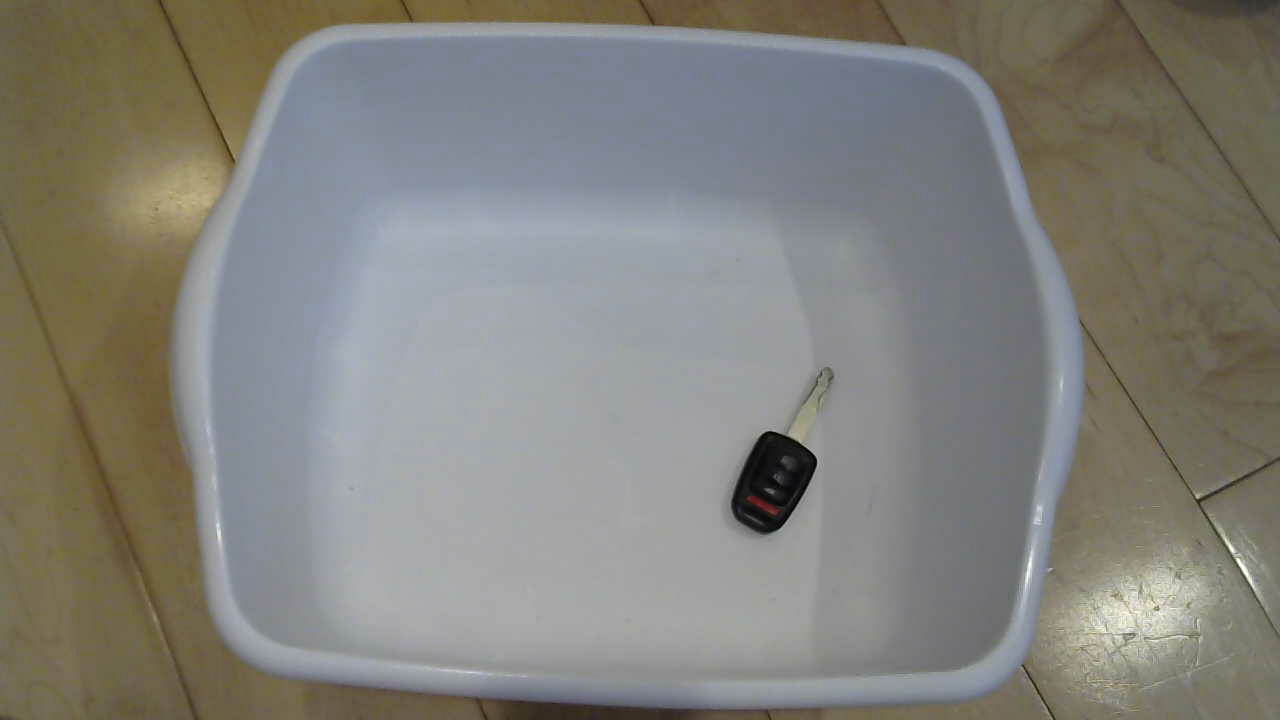key: (720, 370, 874, 544)
